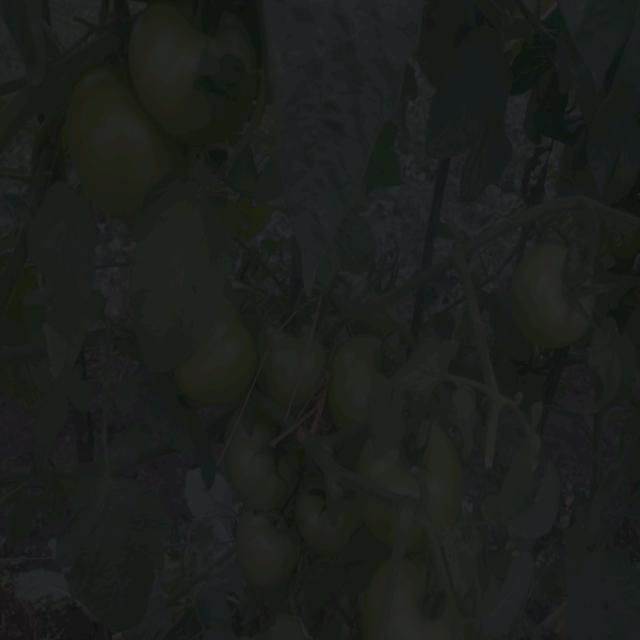tomato: (124, 1, 252, 147), (70, 73, 177, 199), (515, 240, 599, 346), (371, 414, 466, 507), (364, 563, 461, 640), (235, 413, 300, 509), (263, 323, 329, 408), (239, 502, 305, 587), (184, 323, 254, 403), (331, 330, 378, 428), (296, 478, 358, 550), (364, 495, 404, 550)
